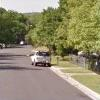Car: (28, 44, 56, 77)
